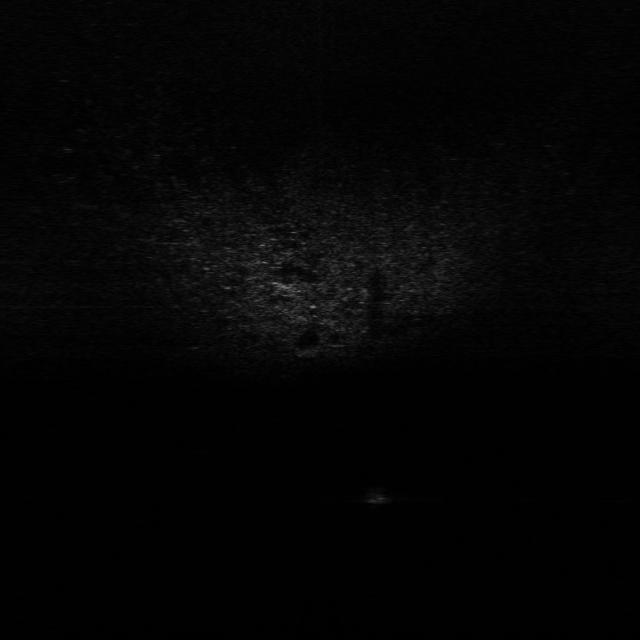cylinder: (366, 483, 392, 506)
